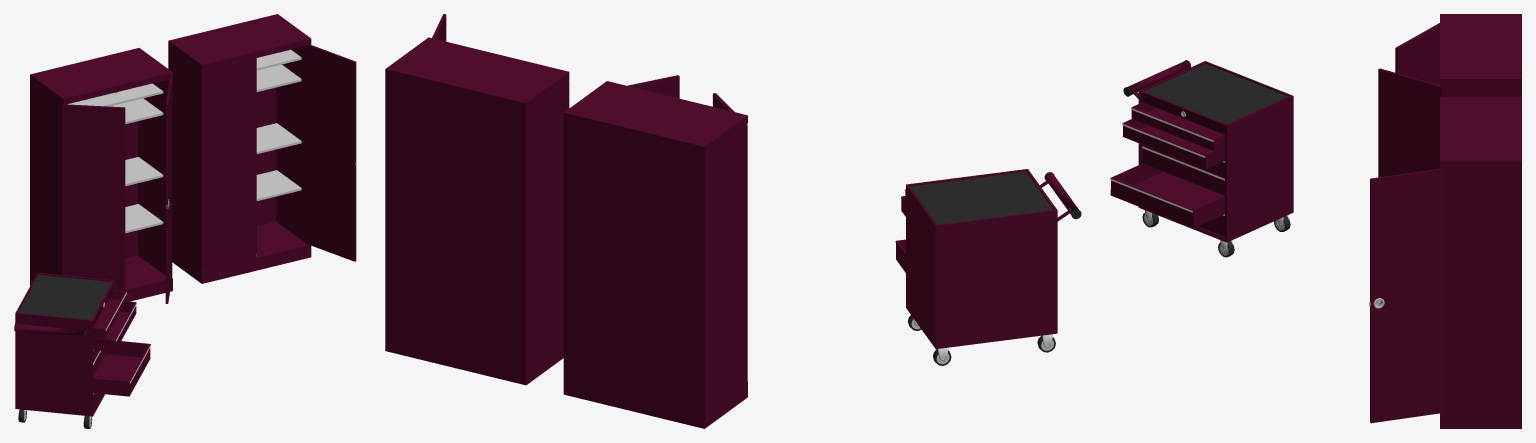
File: WerkzeugschrankEdited.fbx
3 views of the same model, side by side, from view 1: azimuth 30°, elevation 25°; view 2: azimuth 150°, elevation 25°; view 3: azimuth 270°, elevation 25° (orthographic). The views are drawn at different scales.
Visible parts, largest first — view 1: Schrank_closed, Schrank_open, Cube; view 2: Schrank_open, Schrank_closed, Cube; view 3: Schrank_closed, Cube, Schrank_open.
Part boxes in pixels (x1,y1,x2,y2): Schrank_closed: [168, 14, 356, 283]; Schrank_open: [30, 48, 172, 303]; Cube: [14, 272, 151, 428]; Schrank_open: [563, 75, 747, 428]; Schrank_closed: [385, 14, 569, 385]; Cube: [895, 169, 1081, 365]; Schrank_closed: [1369, 96, 1521, 428]; Cube: [1110, 60, 1293, 257]; Schrank_open: [1378, 14, 1521, 177].
Size of the model in its own units: 4.01 by 2.01 by 2.79.
